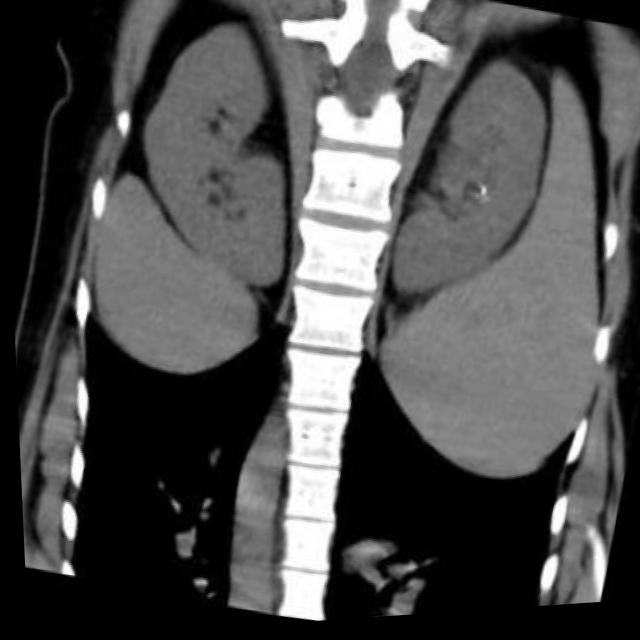Tas_Var: (473, 185, 489, 206)
